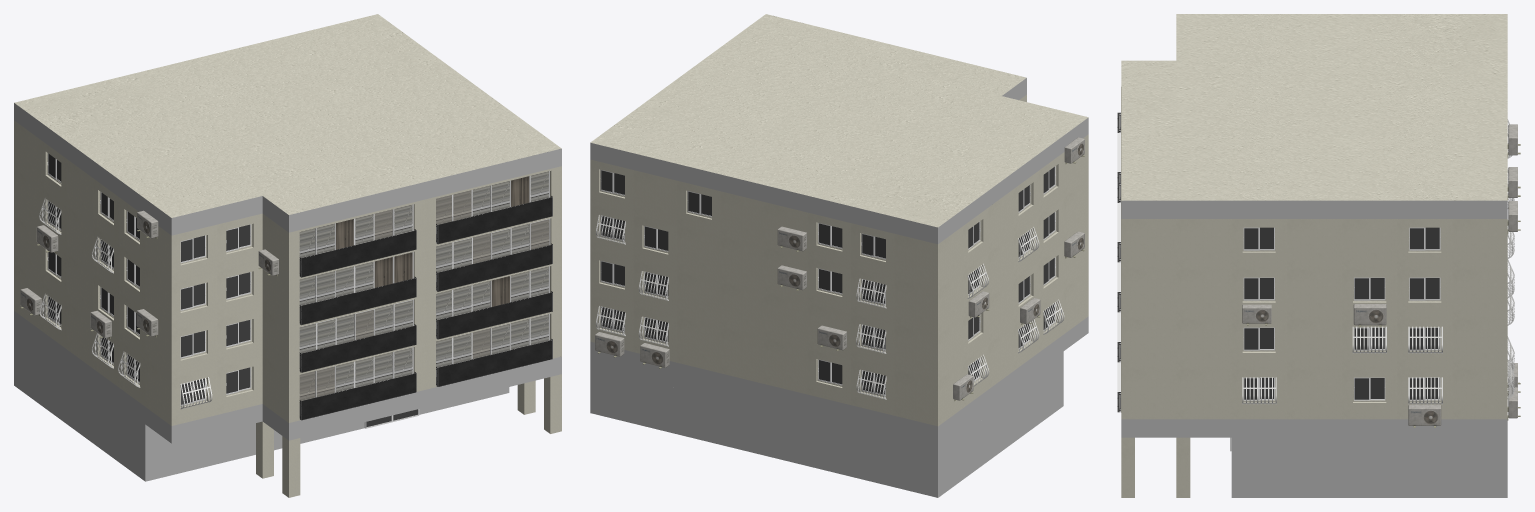
Rendered from SM_Building_01_c.fbx.
3 renders of one model, left to right at view 1: azimuth 30°, elevation 25°; view 2: azimuth 150°, elevation 25°; view 3: azimuth 270°, elevation 25°, orthographic. The views are drawn at different scales.
Parts seen in each view (by area): view 1: SM_Building_01_c; view 2: SM_Building_01_c; view 3: SM_Building_01_c.
Boxes of the visible parts, x1=… form: SM_Building_01_c: x1=14, y1=14, x2=561, y2=497; SM_Building_01_c: x1=590, y1=14, x2=1088, y2=497; SM_Building_01_c: x1=1117, y1=14, x2=1520, y2=497.
Size of the model in its own units: 2538 by 1785 by 2190.
